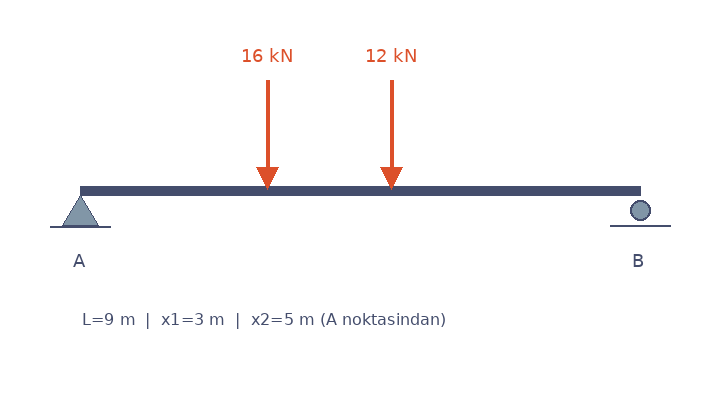pin_support: (61, 190, 99, 226)
point_load: (253, 76, 281, 190), (377, 76, 405, 190)
roller_support: (625, 196, 655, 227)
